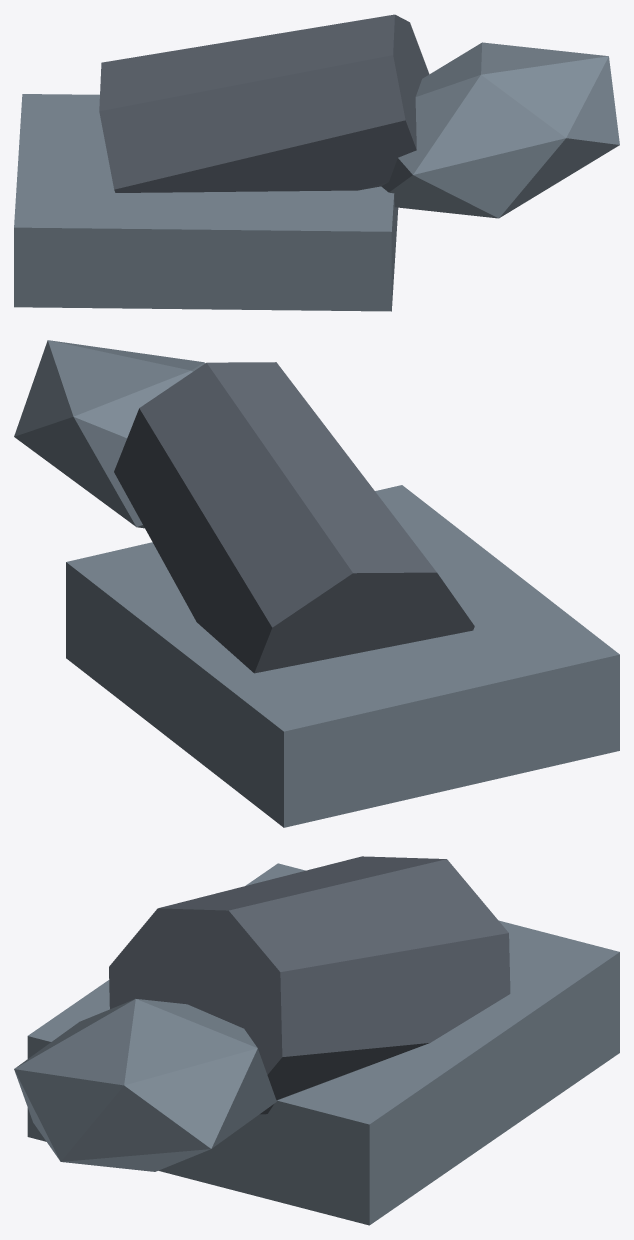
The model's file is INT_B_BrokenColumn_00.glb.
The picture shows the model from 3 angles, top to bottom: view 1: azimuth 30°, elevation 25°; view 2: azimuth 150°, elevation 25°; view 3: azimuth 270°, elevation 25°; orthographic projection. The views are drawn at different scales.
Visible parts, largest first — view 1: INT_B_BrokenColumn_00; view 2: INT_B_BrokenColumn_00; view 3: INT_B_BrokenColumn_00.
Boxes of the visible parts, x1,y1,x2,y2 form: INT_B_BrokenColumn_00: [14, 14, 619, 311]; INT_B_BrokenColumn_00: [14, 340, 619, 827]; INT_B_BrokenColumn_00: [14, 856, 619, 1225].
Size of the model in its own units: 1.4 by 0.6066 by 1.09.
